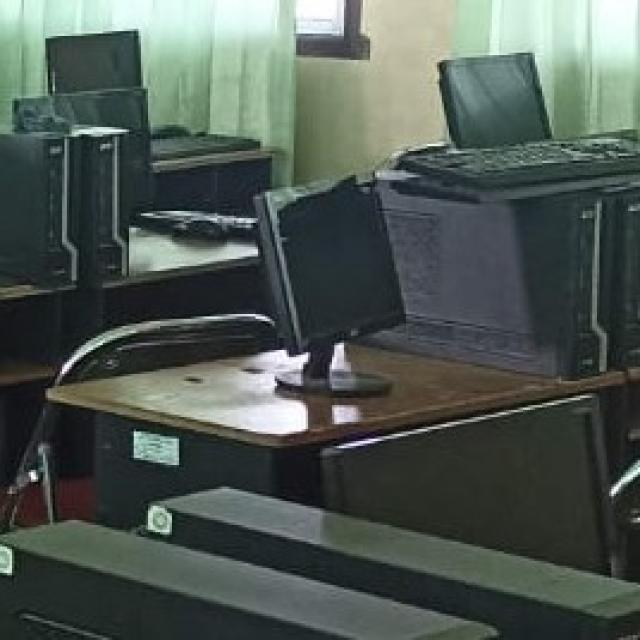offscreen: (258, 177, 405, 396)
